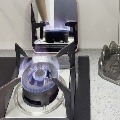fire: (19, 44, 59, 92)
